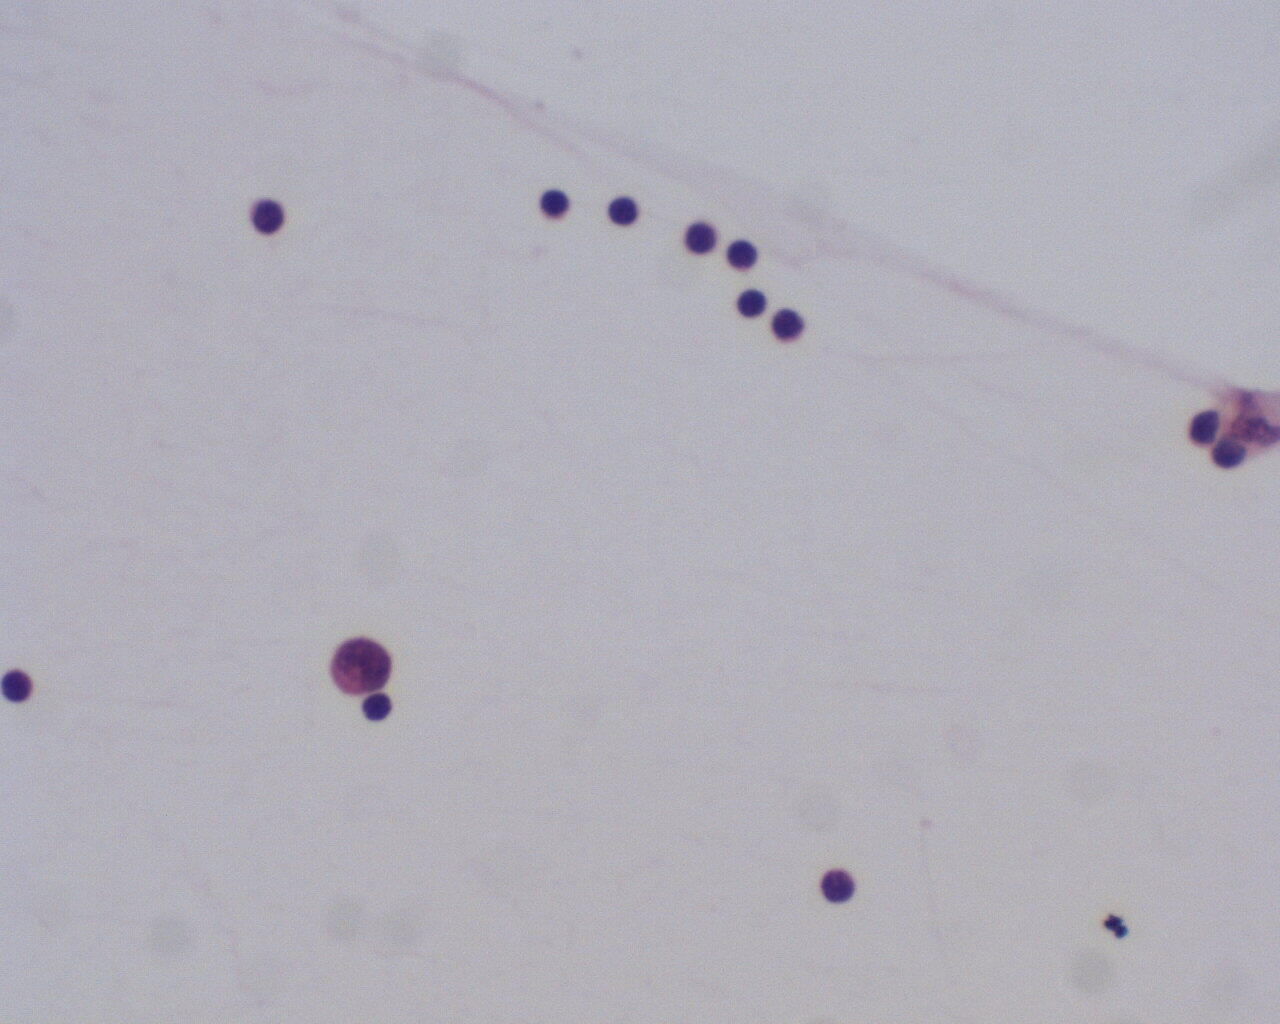ab: (324, 634, 396, 696)
lymph: (731, 284, 773, 325), (248, 199, 290, 237), (604, 192, 643, 230), (537, 187, 573, 219), (685, 222, 717, 256)
